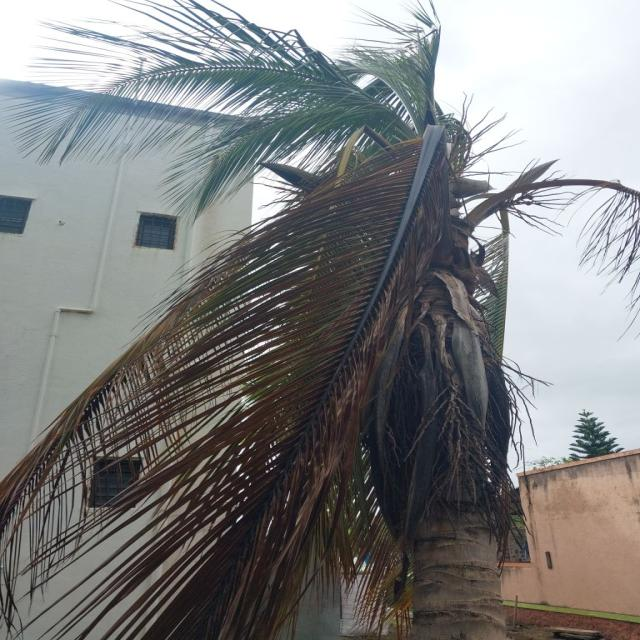bud root dropping: (3, 5, 633, 640)
